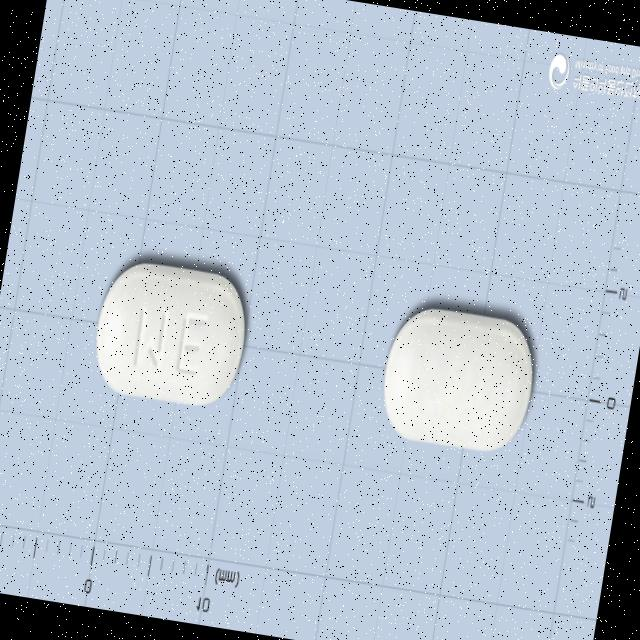Meiact Tab- Boryung: (376, 301, 543, 460), (88, 254, 255, 412)
